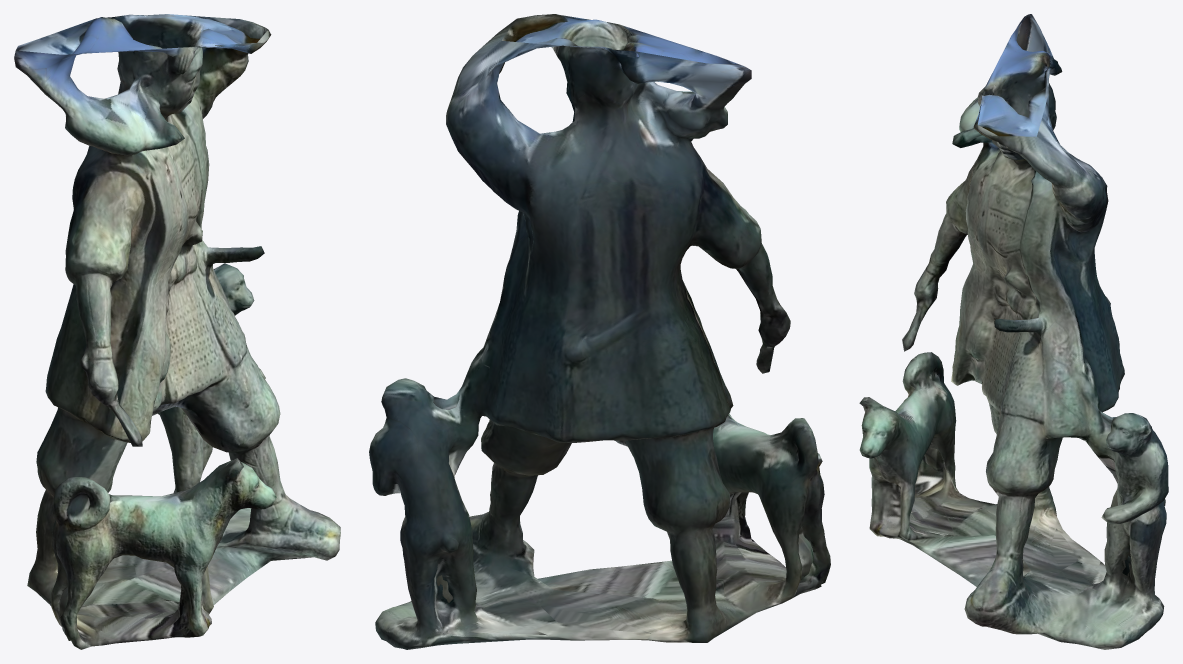
File: momotaro.glb
3 renders of one model, left to right at view 1: azimuth 30°, elevation 25°; view 2: azimuth 150°, elevation 25°; view 3: azimuth 270°, elevation 25°, orthographic. The views are drawn at different scales.
Parts seen in each view (by area): view 1: baked_mesh; view 2: baked_mesh; view 3: baked_mesh.
Boxes of the visible parts, x1=… form: baked_mesh: x1=14, y1=14, x2=340, y2=649; baked_mesh: x1=369, y1=14, x2=830, y2=649; baked_mesh: x1=859, y1=14, x2=1168, y2=649.
Bounding box in the file's own units: 0.9173 × 1.58 × 0.8672.
Materials: 1 (1 with a texture image).
